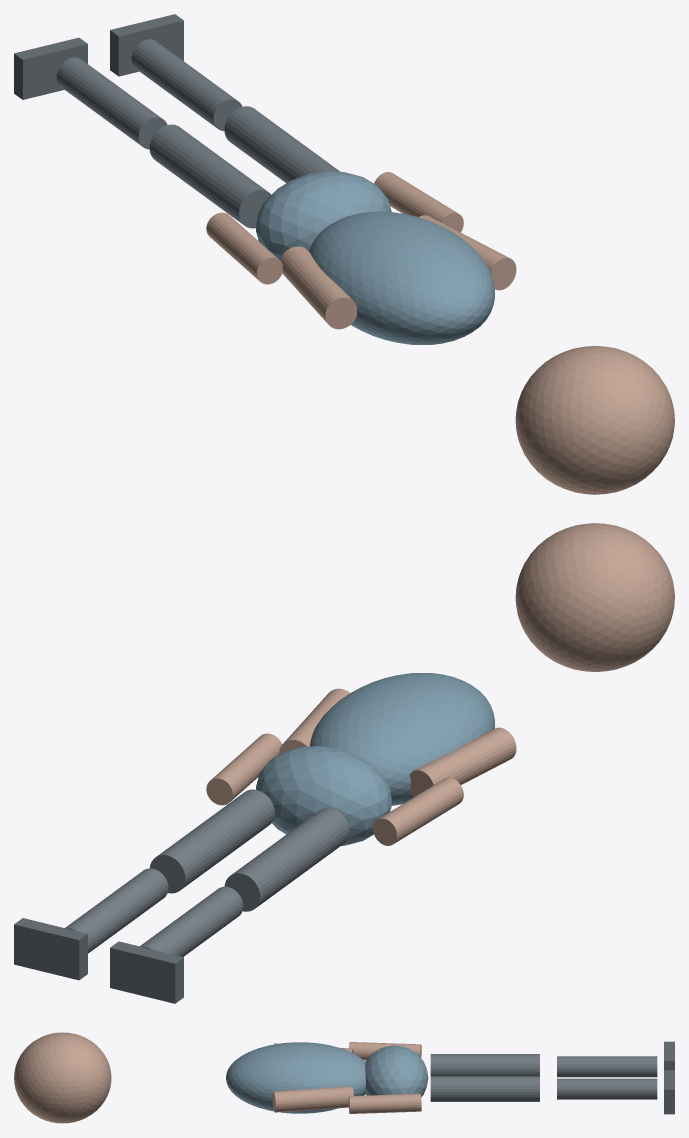
File: child-high.glb
3 views of the same model, one above another, from view 1: azimuth 30°, elevation 25°; view 2: azimuth 150°, elevation 25°; view 3: azimuth 270°, elevation 25° (orthographic). The views are drawn at different scales.
Parts seen in each view (by area): view 1: head, torso, pelvis, left_thigh, right_thigh, left_lower_leg, right_lower_leg, left_upper_arm, left_foot, left_forearm, right_foot, right_forearm (+1 smaller); view 2: head, torso, pelvis, left_thigh, right_thigh, left_foot, right_foot, right_lower_leg, left_upper_arm, left_lower_leg, left_forearm, right_forearm (+1 smaller); view 3: head, torso, right_thigh, pelvis, left_thigh, left_lower_leg, right_lower_leg, right_upper_arm, right_forearm, left_forearm, right_foot, left_foot.
Part boxes in pixels (<box>): head: <box>515,345,674,494</box>; torso: <box>309,211,494,344</box>; pelvis: <box>256,171,391,259</box>; left_thigh: <box>149,124,271,228</box>; right_thigh: <box>224,106,339,183</box>; left_lower_leg: <box>56,57,167,149</box>; right_lower_leg: <box>131,39,242,131</box>; left_upper_arm: <box>280,246,357,329</box>; left_foot: <box>14,37,87,99</box>; left_forearm: <box>206,212,282,284</box>; right_foot: <box>110,14,183,76</box>; right_forearm: <box>374,172,463,232</box>; head: <box>515,523,674,672</box>; torso: <box>310,673,494,805</box>; pelvis: <box>256,746,391,845</box>; left_thigh: <box>224,807,349,911</box>; right_thigh: <box>149,789,274,893</box>; left_foot: <box>110,941,183,1003</box>; right_foot: <box>14,918,87,980</box>; right_lower_leg: <box>65,868,168,953</box>; left_upper_arm: <box>410,727,516,796</box>; left_lower_leg: <box>140,886,243,956</box>; left_forearm: <box>373,777,463,845</box>; right_forearm: <box>206,733,282,805</box>; head: <box>14,1032,111,1123</box>; torso: <box>226,1042,365,1113</box>; right_thigh: <box>430,1076,539,1101</box>; pelvis: <box>365,1045,428,1096</box>; left_thigh: <box>430,1054,539,1076</box>; left_lower_leg: <box>557,1056,657,1077</box>; right_lower_leg: <box>557,1078,657,1099</box>; right_upper_arm: <box>272,1086,353,1112</box>; right_forearm: <box>348,1093,421,1113</box>; left_forearm: <box>349,1042,421,1060</box>; right_foot: <box>664,1070,674,1114</box>; left_foot: <box>664,1041,674,1070</box>.
Bounding box in the file's own units: 1.08 × 0.6624 × 4.88.
